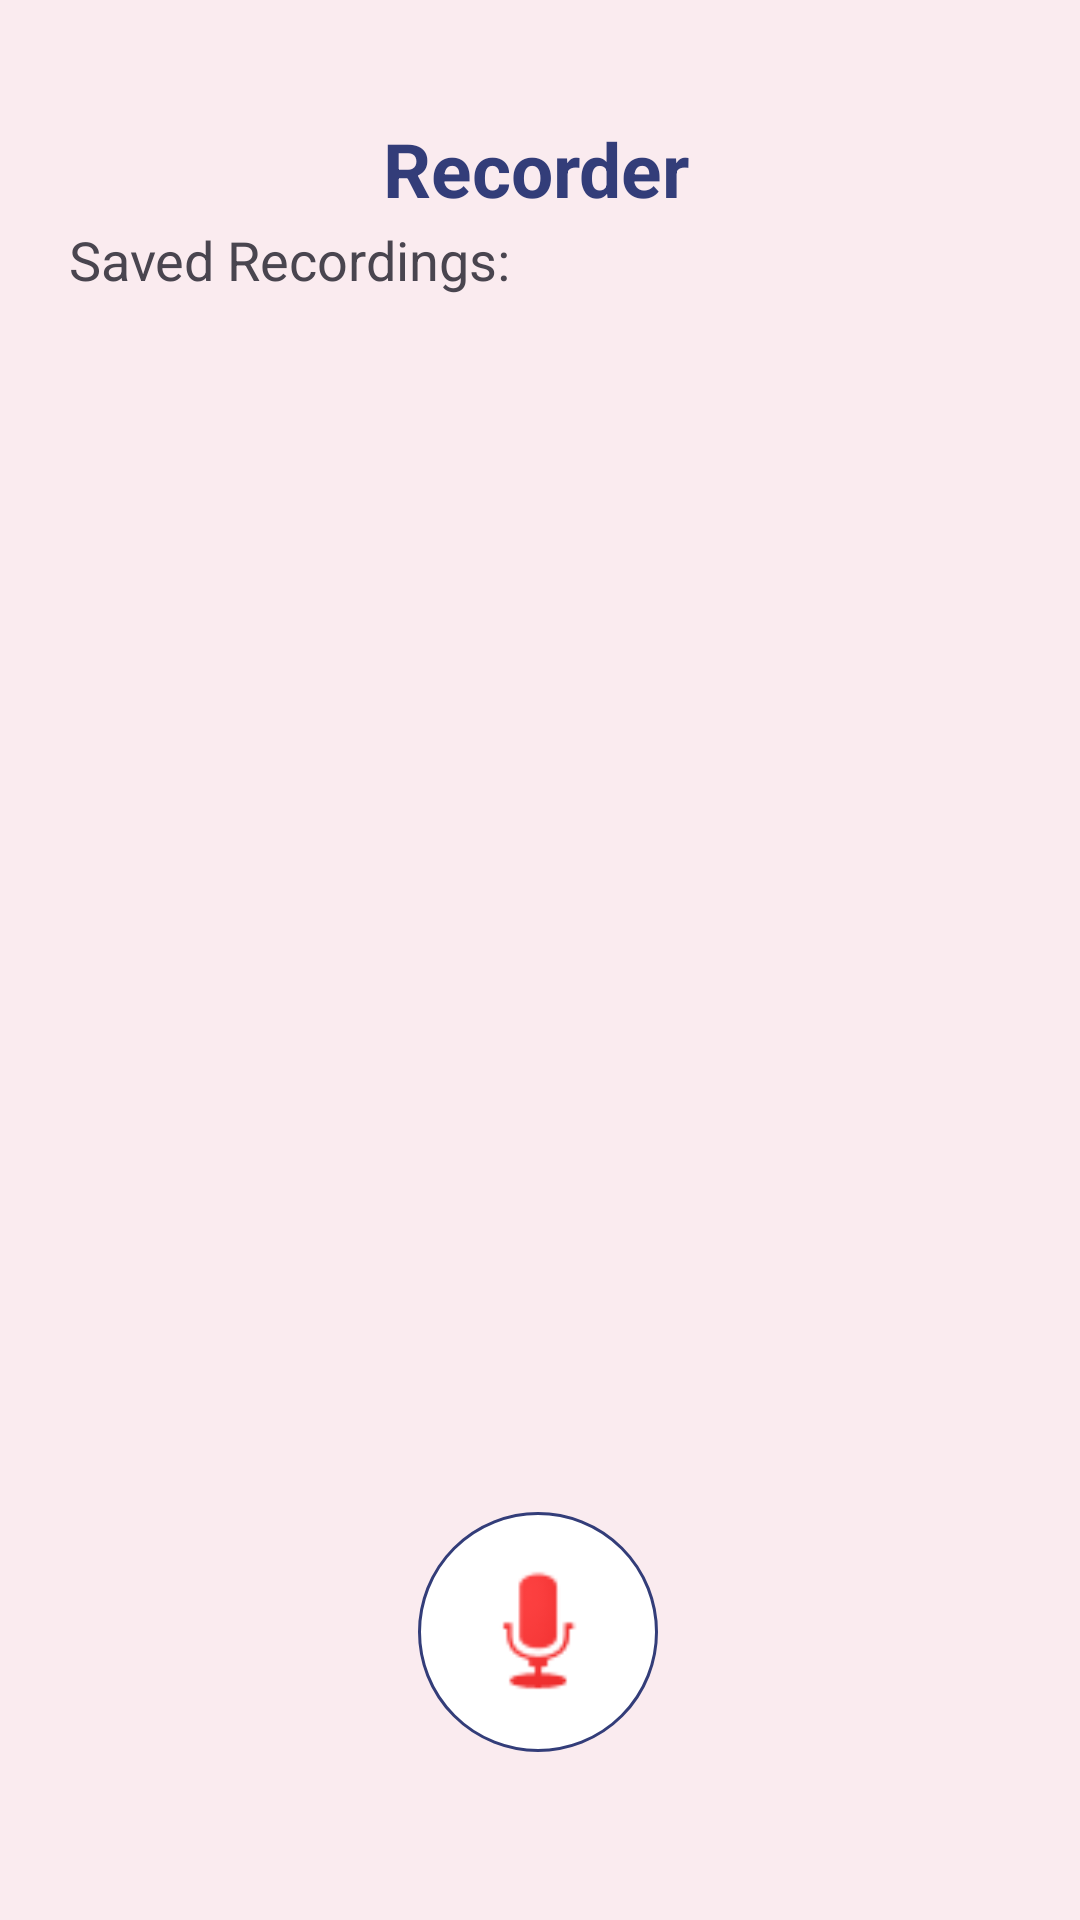

Locate icon controls on the screen. Image size 1080w x 1920h, boxes as (x1, y1, x2, y2).
My Recorder: (418, 1512, 658, 1752)
